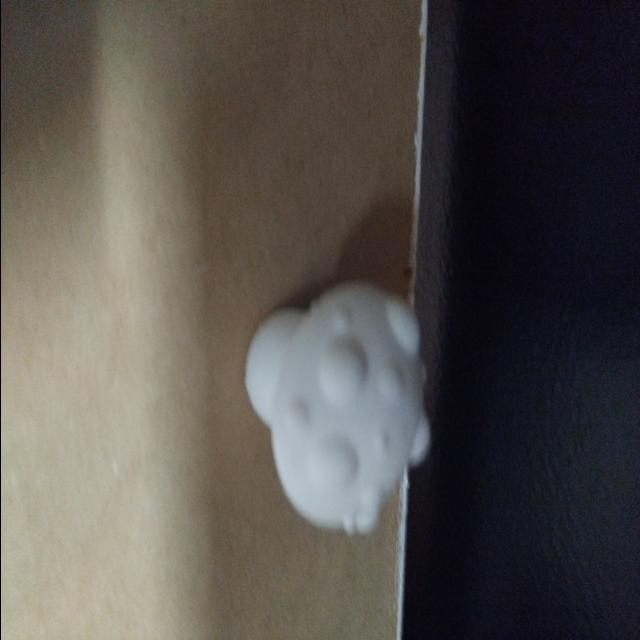Hongo: (232, 282, 432, 538)
